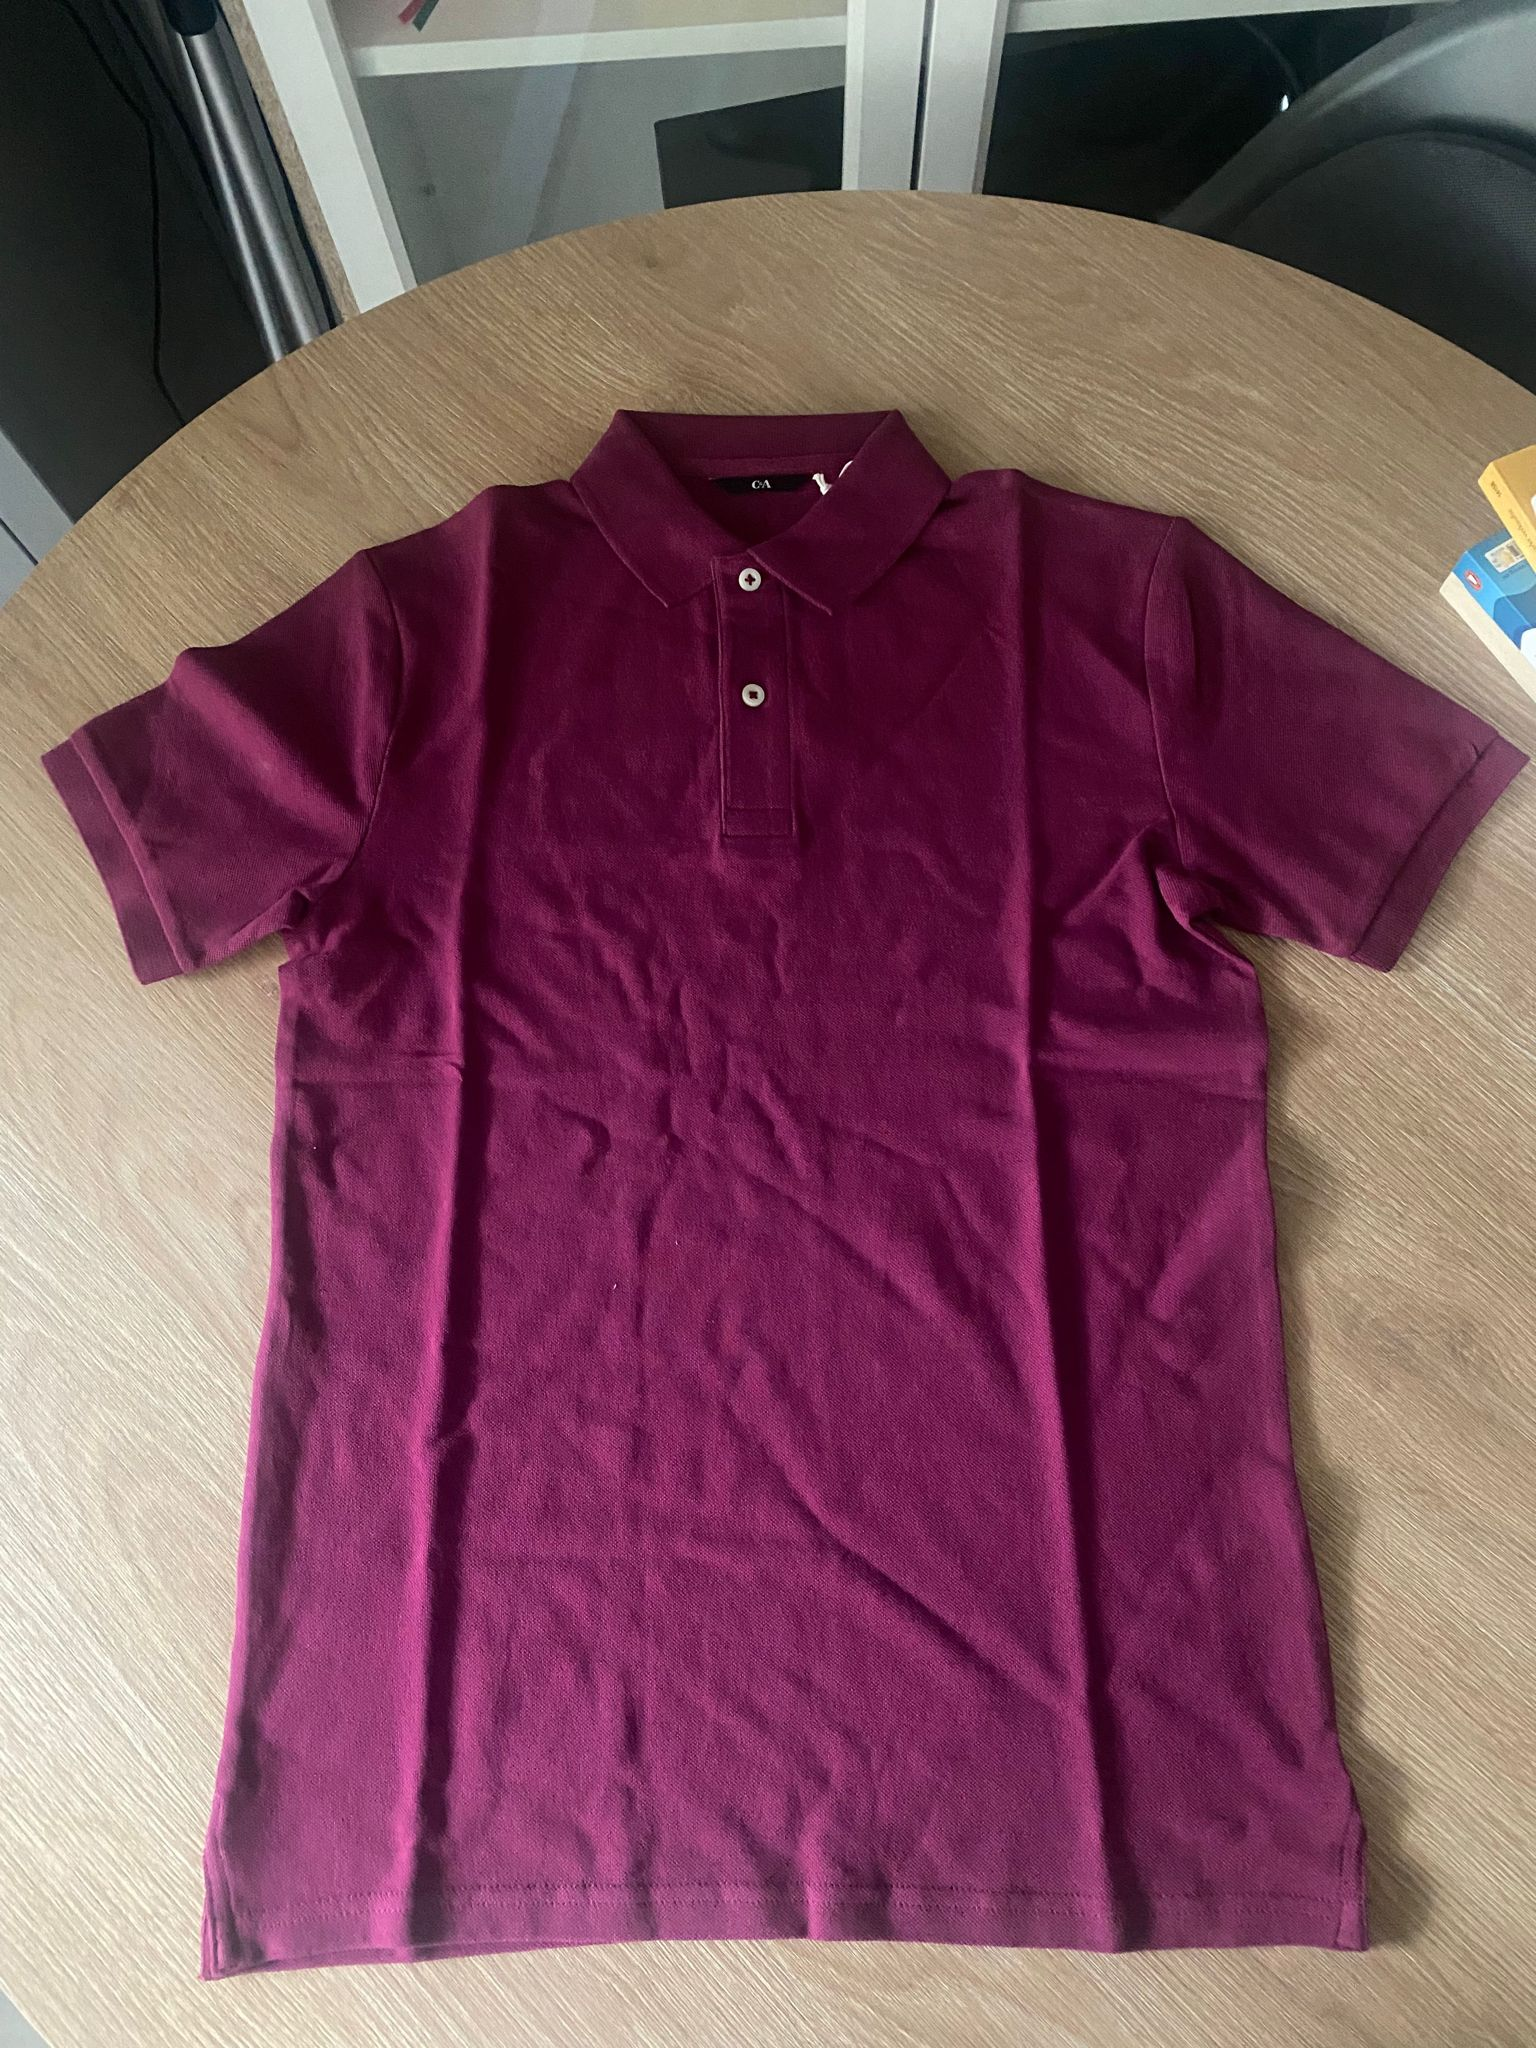button: (728, 672, 783, 719), (728, 555, 774, 598)
